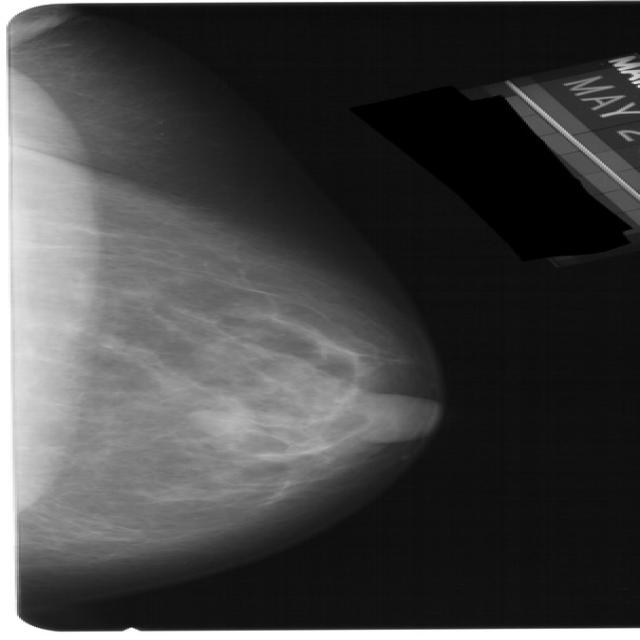tumour: (182, 408, 240, 436)
